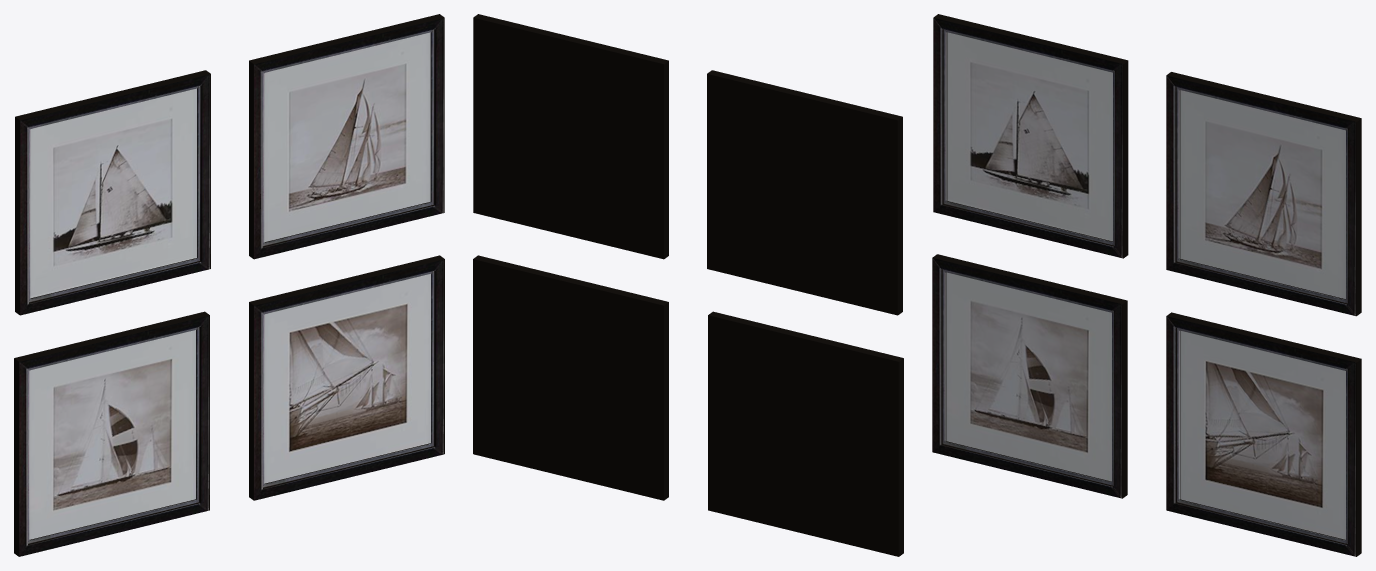
Rendered from Pictures.FBX.
The picture shows the model from 3 angles, left to right: view 1: azimuth 30°, elevation 25°; view 2: azimuth 150°, elevation 25°; view 3: azimuth 330°, elevation 25°; orthographic projection.
Visible parts, largest first — view 1: Picture 2, Picture 4, Picture 1, Picture 3; view 2: Picture 2, Picture 4, Picture 1, Picture 3; view 3: Picture 2, Picture 1, Picture 3, Picture 4.
Boxes of the visible parts, <box> form: Picture 2: <box>249,14,444,259</box>; Picture 4: <box>249,255,444,500</box>; Picture 1: <box>15,70,210,315</box>; Picture 3: <box>14,311,209,556</box>; Picture 2: <box>473,14,668,259</box>; Picture 4: <box>473,255,668,500</box>; Picture 1: <box>707,70,902,315</box>; Picture 3: <box>708,311,903,556</box>; Picture 2: <box>1166,72,1361,316</box>; Picture 1: <box>933,14,1128,258</box>; Picture 3: <box>932,254,1127,498</box>; Picture 4: <box>1166,312,1361,556</box>.
Bounding box in the file's own units: 98.1 × 96.32 × 2.
Materials: 1 (1 with a texture image).
